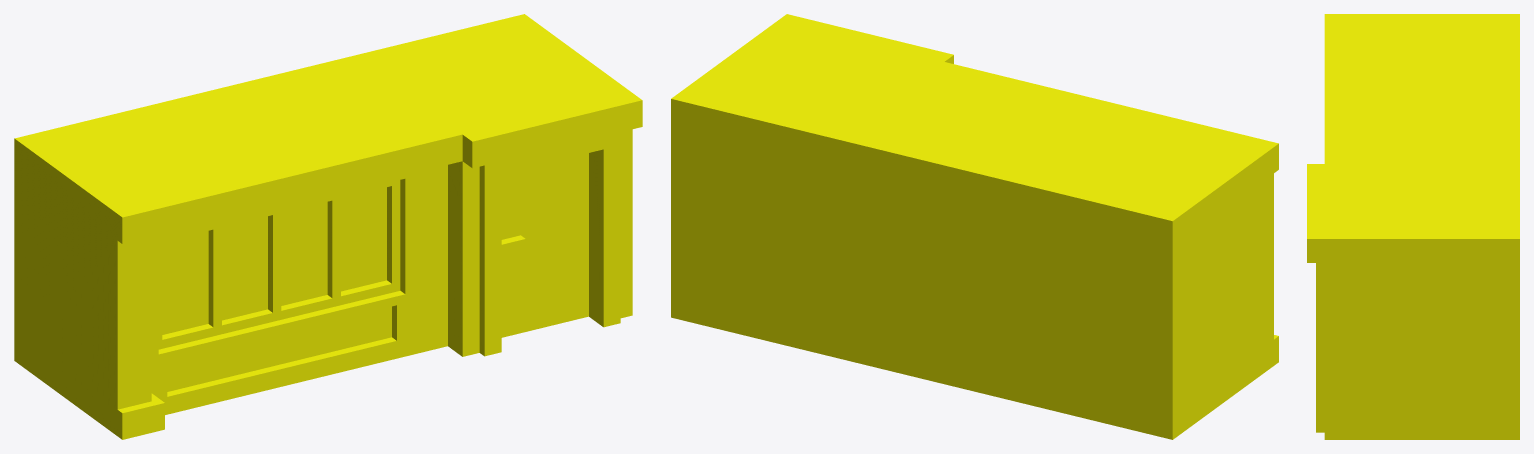
File: BuildingBlock_1.glb
The picture shows the model from 3 angles, left to right: view 1: azimuth 30°, elevation 25°; view 2: azimuth 150°, elevation 25°; view 3: azimuth 270°, elevation 25°; orthographic projection. The views are drawn at different scales.
Visible parts, largest first — view 1: BuildingBlock_1; view 2: BuildingBlock_1; view 3: BuildingBlock_1.
Boxes of the visible parts, x1,y1,x2,y2 form: BuildingBlock_1: (14,14,642,439); BuildingBlock_1: (671,14,1278,439); BuildingBlock_1: (1307,14,1519,439).
Size of the model in its own units: 6 by 2.5 by 2.4.
